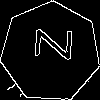Z: (25, 27, 73, 61)
